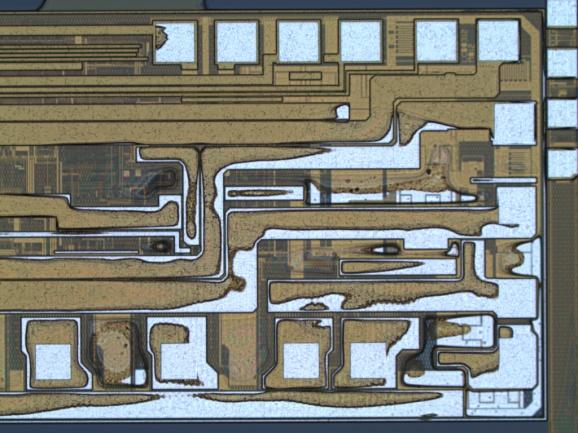COATING BAD: (1, 146, 500, 313)
